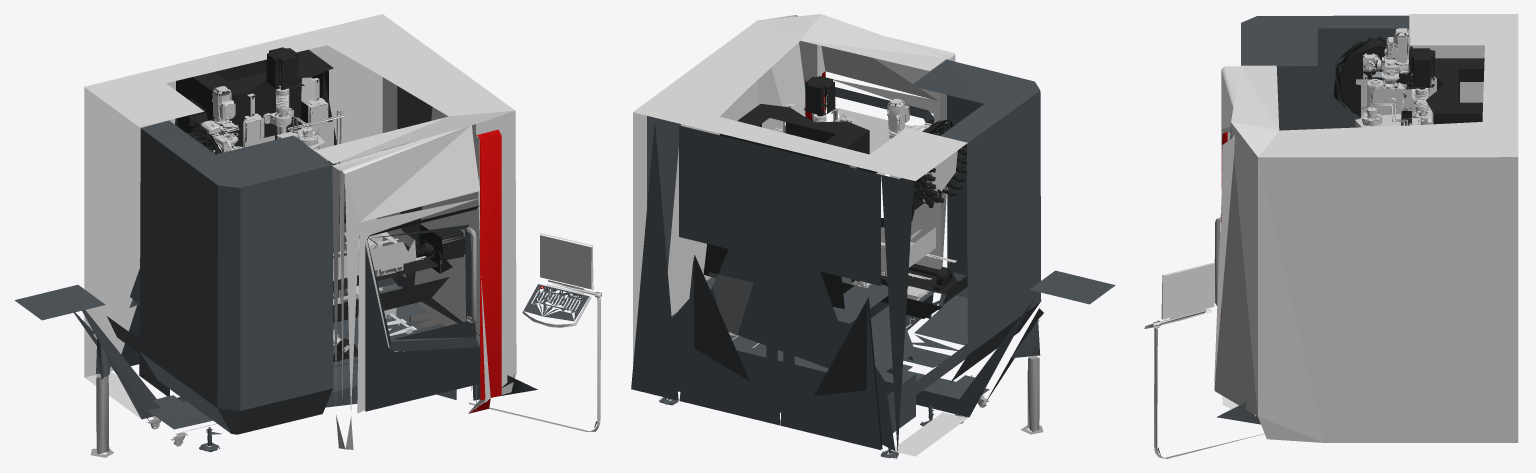
Rendered from machine_ultra_low.glb.
3 renders of one model, left to right at view 1: azimuth 30°, elevation 25°; view 2: azimuth 150°, elevation 25°; view 3: azimuth 270°, elevation 25°, orthographic. The views are drawn at different scales.
Parts seen in each view (by area): view 1: CNC_Machine_with_Doors_mesh76_192, CNC_Machine_with_Doors_mesh106_184, CNC_Machine_with_Doors_mesh72_176, CNC_Machine_with_Doors_mesh83_202, CNC_Machine_with_Doors_mesh103_232, CNC_Machine_with_Doors_mesh88_206, CNC_Machine_with_Doors_mesh135_336, CNC_Machine_with_Doors_mesh179_180, CNC_Machine_with_Doors_mesh77_198, CNC_Machine_with_Doors_mesh100_230, CNC_Machine_with_Doors_mesh110_178, CNC_Machine_with_Doors_mesh121_246 (+11 smaller); view 2: CNC_Machine_with_Doors_mesh132_272, CNC_Machine_with_Doors_mesh106_184, CNC_Machine_with_Doors_mesh76_192, CNC_Machine_with_Doors_mesh100_230, CNC_Machine_with_Doors_mesh101_194, CNC_Machine_with_Doors_mesh179_180, CNC_Machine_with_Doors_mesh85_204, CNC_Machine_with_Doors_mesh103_232, CNC_Machine_with_Doors_mesh72_176, CNC_Machine_with_Doors_mesh77_198, CNC_Machine_with_Doors_mesh74_188, CNC_Machine_with_Doors_mesh121_246 (+9 smaller); view 3: CNC_Machine_with_Doors_mesh106_184, CNC_Machine_with_Doors_mesh76_192, CNC_Machine_with_Doors_mesh88_206, CNC_Machine_with_Doors_mesh103_232, CNC_Machine_with_Doors_mesh91_214, CNC_Machine_with_Doors_mesh37_90, CNC_Machine_with_Doors_mesh72_176, CNC_Machine_with_Doors_mesh44_104, CNC_Machine_with_Doors_mesh41_96, CNC_Machine_with_Doors_mesh156_298, CNC_Machine_with_Doors_mesh155_296, CNC_Machine_with_Doors_mesh110_178.
Boxes of the visible parts, box(x1,y1,x2,y2) form: CNC_Machine_with_Doors_mesh76_192: box(139, 120, 333, 434); CNC_Machine_with_Doors_mesh106_184: box(84, 14, 516, 417); CNC_Machine_with_Doors_mesh72_176: box(332, 125, 479, 449); CNC_Machine_with_Doors_mesh83_202: box(365, 244, 480, 411); CNC_Machine_with_Doors_mesh103_232: box(175, 49, 345, 226); CNC_Machine_with_Doors_mesh88_206: box(469, 233, 602, 432); CNC_Machine_with_Doors_mesh135_336: box(477, 129, 501, 400); CNC_Machine_with_Doors_mesh179_180: box(14, 284, 357, 426); CNC_Machine_with_Doors_mesh77_198: box(357, 198, 479, 413); CNC_Machine_with_Doors_mesh100_230: box(107, 223, 479, 434); CNC_Machine_with_Doors_mesh110_178: box(372, 224, 476, 339); CNC_Machine_with_Doors_mesh121_246: box(333, 256, 449, 322); CNC_Machine_with_Doors_mesh132_272: box(679, 125, 882, 449); CNC_Machine_with_Doors_mesh106_184: box(633, 14, 967, 456); CNC_Machine_with_Doors_mesh76_192: box(910, 59, 1041, 381); CNC_Machine_with_Doors_mesh100_230: box(671, 276, 967, 450); CNC_Machine_with_Doors_mesh101_194: box(631, 120, 678, 400); CNC_Machine_with_Doors_mesh179_180: box(885, 270, 1115, 417); CNC_Machine_with_Doors_mesh85_204: box(881, 175, 913, 451); CNC_Machine_with_Doors_mesh103_232: box(702, 103, 883, 308); CNC_Machine_with_Doors_mesh72_176: box(821, 36, 955, 267); CNC_Machine_with_Doors_mesh77_198: box(824, 79, 941, 269); CNC_Machine_with_Doors_mesh74_188: box(647, 116, 680, 270); CNC_Machine_with_Doors_mesh121_246: box(842, 271, 967, 318); CNC_Machine_with_Doors_mesh106_184: box(1214, 14, 1518, 442); CNC_Machine_with_Doors_mesh76_192: box(1241, 15, 1409, 130); CNC_Machine_with_Doors_mesh88_206: box(1144, 262, 1264, 458); CNC_Machine_with_Doors_mesh103_232: box(1406, 58, 1484, 124); CNC_Machine_with_Doors_mesh91_214: box(1333, 37, 1429, 123); CNC_Machine_with_Doors_mesh37_90: box(1382, 28, 1410, 77); CNC_Machine_with_Doors_mesh72_176: box(1221, 66, 1239, 179); CNC_Machine_with_Doors_mesh44_104: box(1408, 48, 1435, 90); CNC_Machine_with_Doors_mesh41_96: box(1367, 82, 1404, 118); CNC_Machine_with_Doors_mesh156_298: box(1361, 81, 1412, 118); CNC_Machine_with_Doors_mesh155_296: box(1362, 48, 1408, 74); CNC_Machine_with_Doors_mesh110_178: box(1214, 217, 1220, 306).
Bounding box in the file's own units: 4.33 × 3.01 × 3.12.
